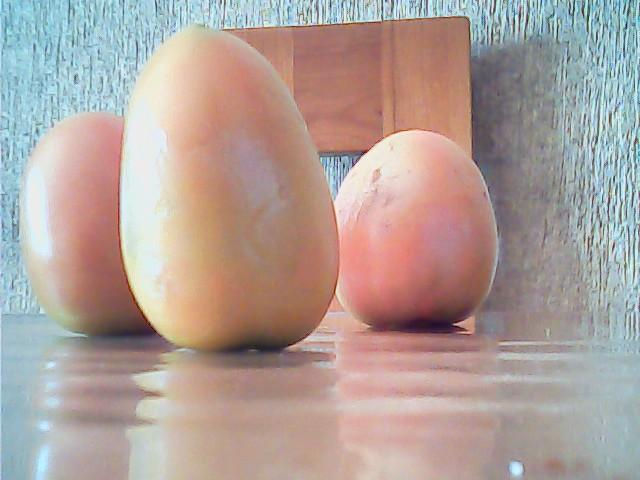verde: (119, 20, 339, 352), (328, 126, 500, 333), (22, 110, 161, 334)
